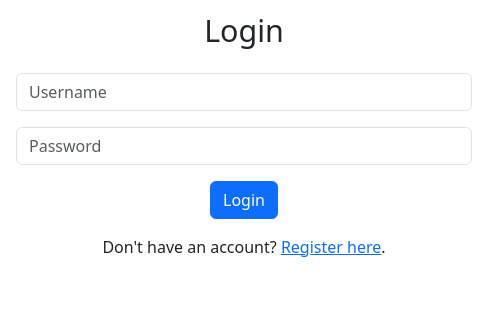
it: Login Component › should display error if password is less than 8 characters
Type "testuser" into the field with test id "username-input". click: (244, 92)
box: x1=16 y1=72 x2=472 y2=110
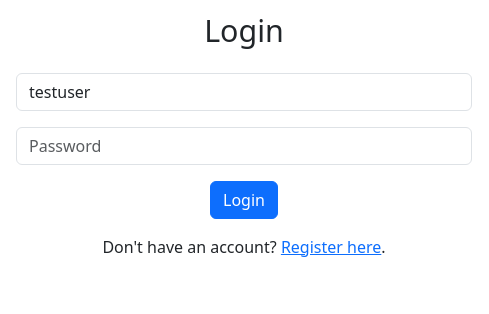
Type "short" into the password field with test id "password-input". click: (244, 146)
box: x1=16 y1=126 x2=472 y2=164
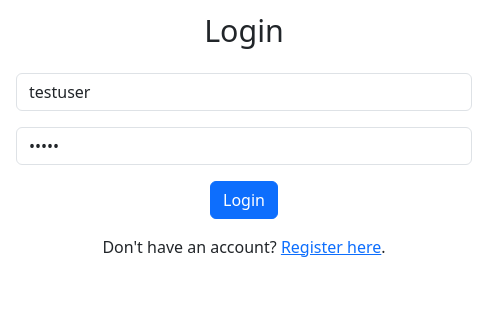
Click the button "Login". click: (244, 200)
box: x1=210 y1=180 x2=278 y2=218
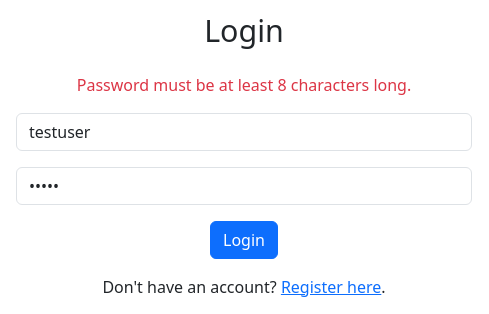
Expected: the text "Password must be at least 8 characters long." is shown, x1=77 y1=74 x2=411 y2=96
